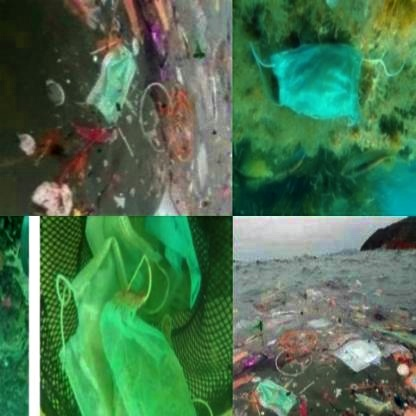Mask: (55, 230, 223, 415), (247, 40, 408, 124), (82, 43, 142, 127), (256, 377, 298, 415)
